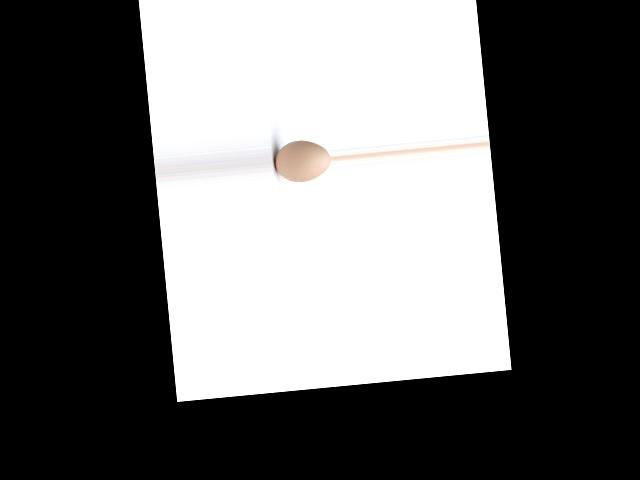egg: (272, 138, 331, 184)
